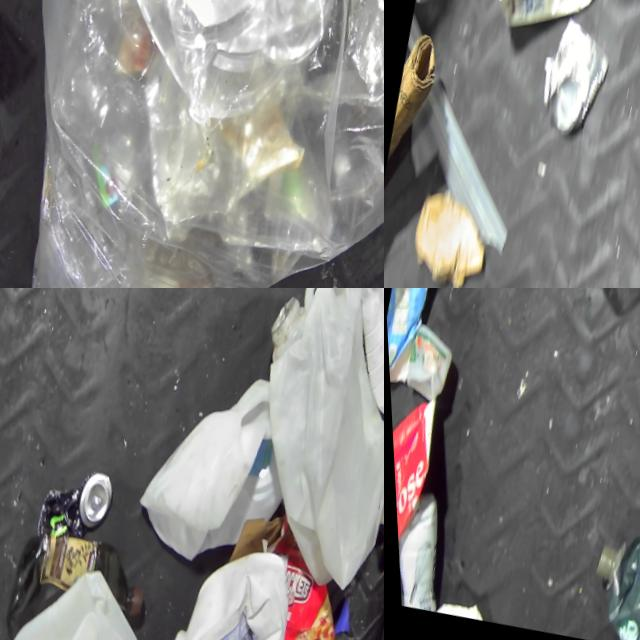can: (115, 356, 307, 586), (526, 12, 620, 145), (25, 459, 114, 554), (362, 412, 384, 564)
milk_jug: (206, 288, 384, 609), (141, 534, 300, 640), (0, 549, 174, 640), (486, 0, 626, 52)
non_white_jug: (0, 524, 152, 640), (384, 288, 450, 388)
